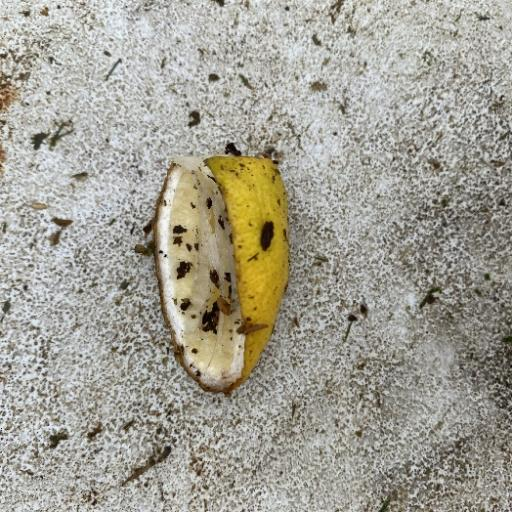Waste: (150, 150, 291, 395)
